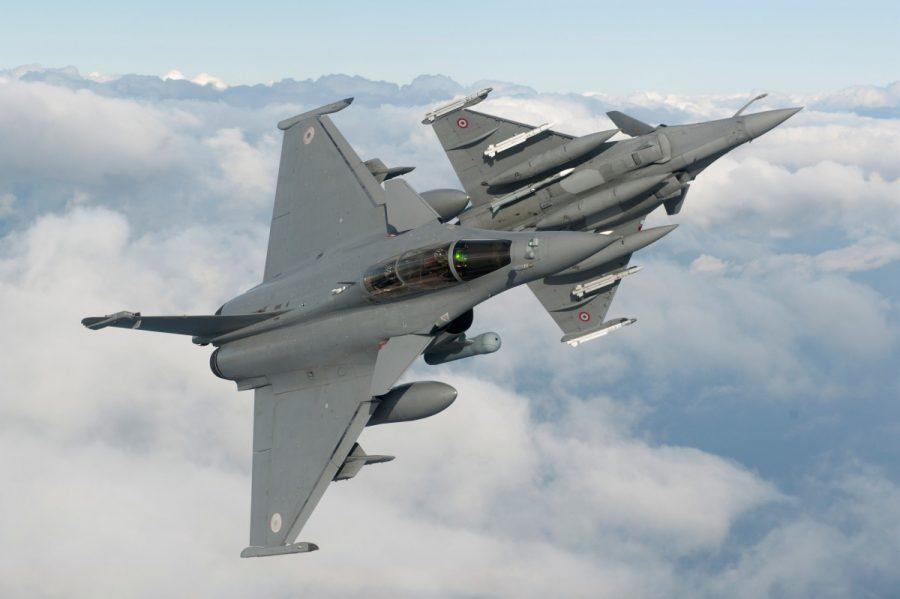aircraft: (71, 85, 823, 554)
